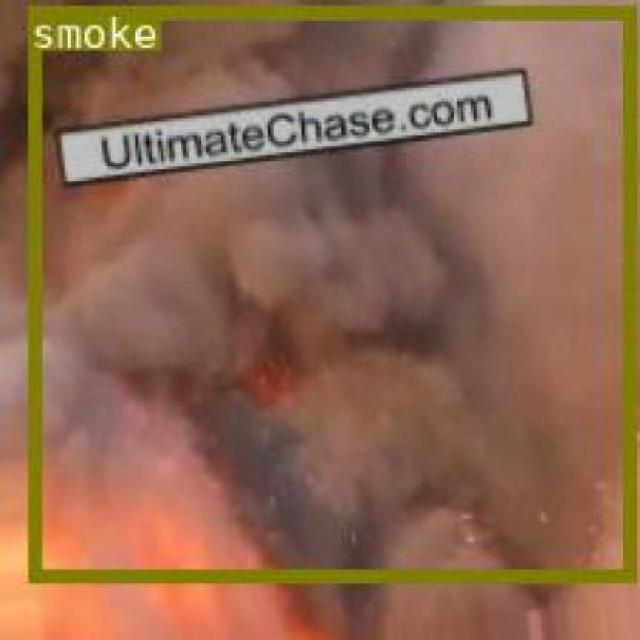Smoke: (26, 3, 634, 579)
